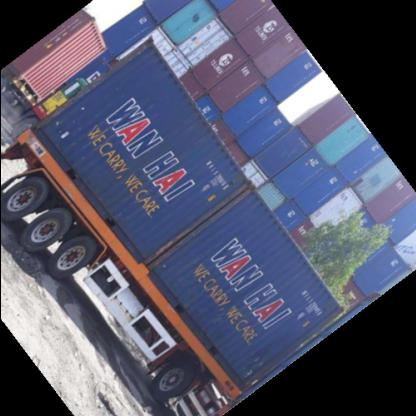Damage: (144, 182, 260, 271), (40, 40, 152, 125)
